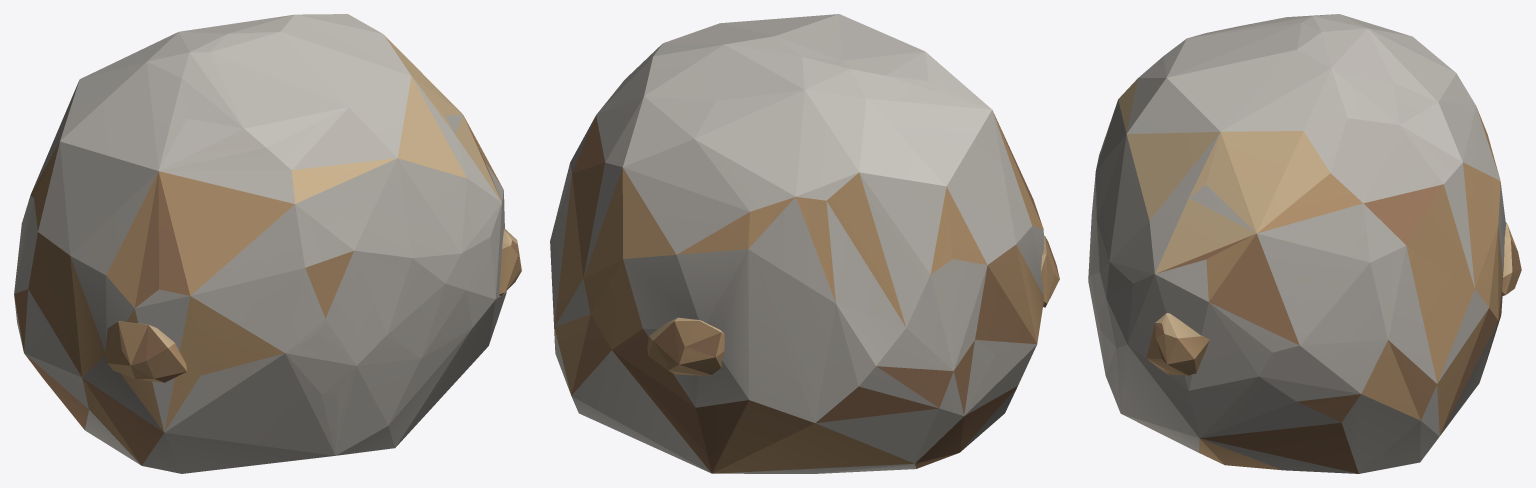
The model's file is quarry_rock_a.glb.
The picture shows the model from 3 angles, left to right: view 1: azimuth 30°, elevation 25°; view 2: azimuth 150°, elevation 25°; view 3: azimuth 270°, elevation 25°; orthographic projection. The views are drawn at different scales.
Bounding box in the file's own units: 1.6 × 1.3 × 1.45.
